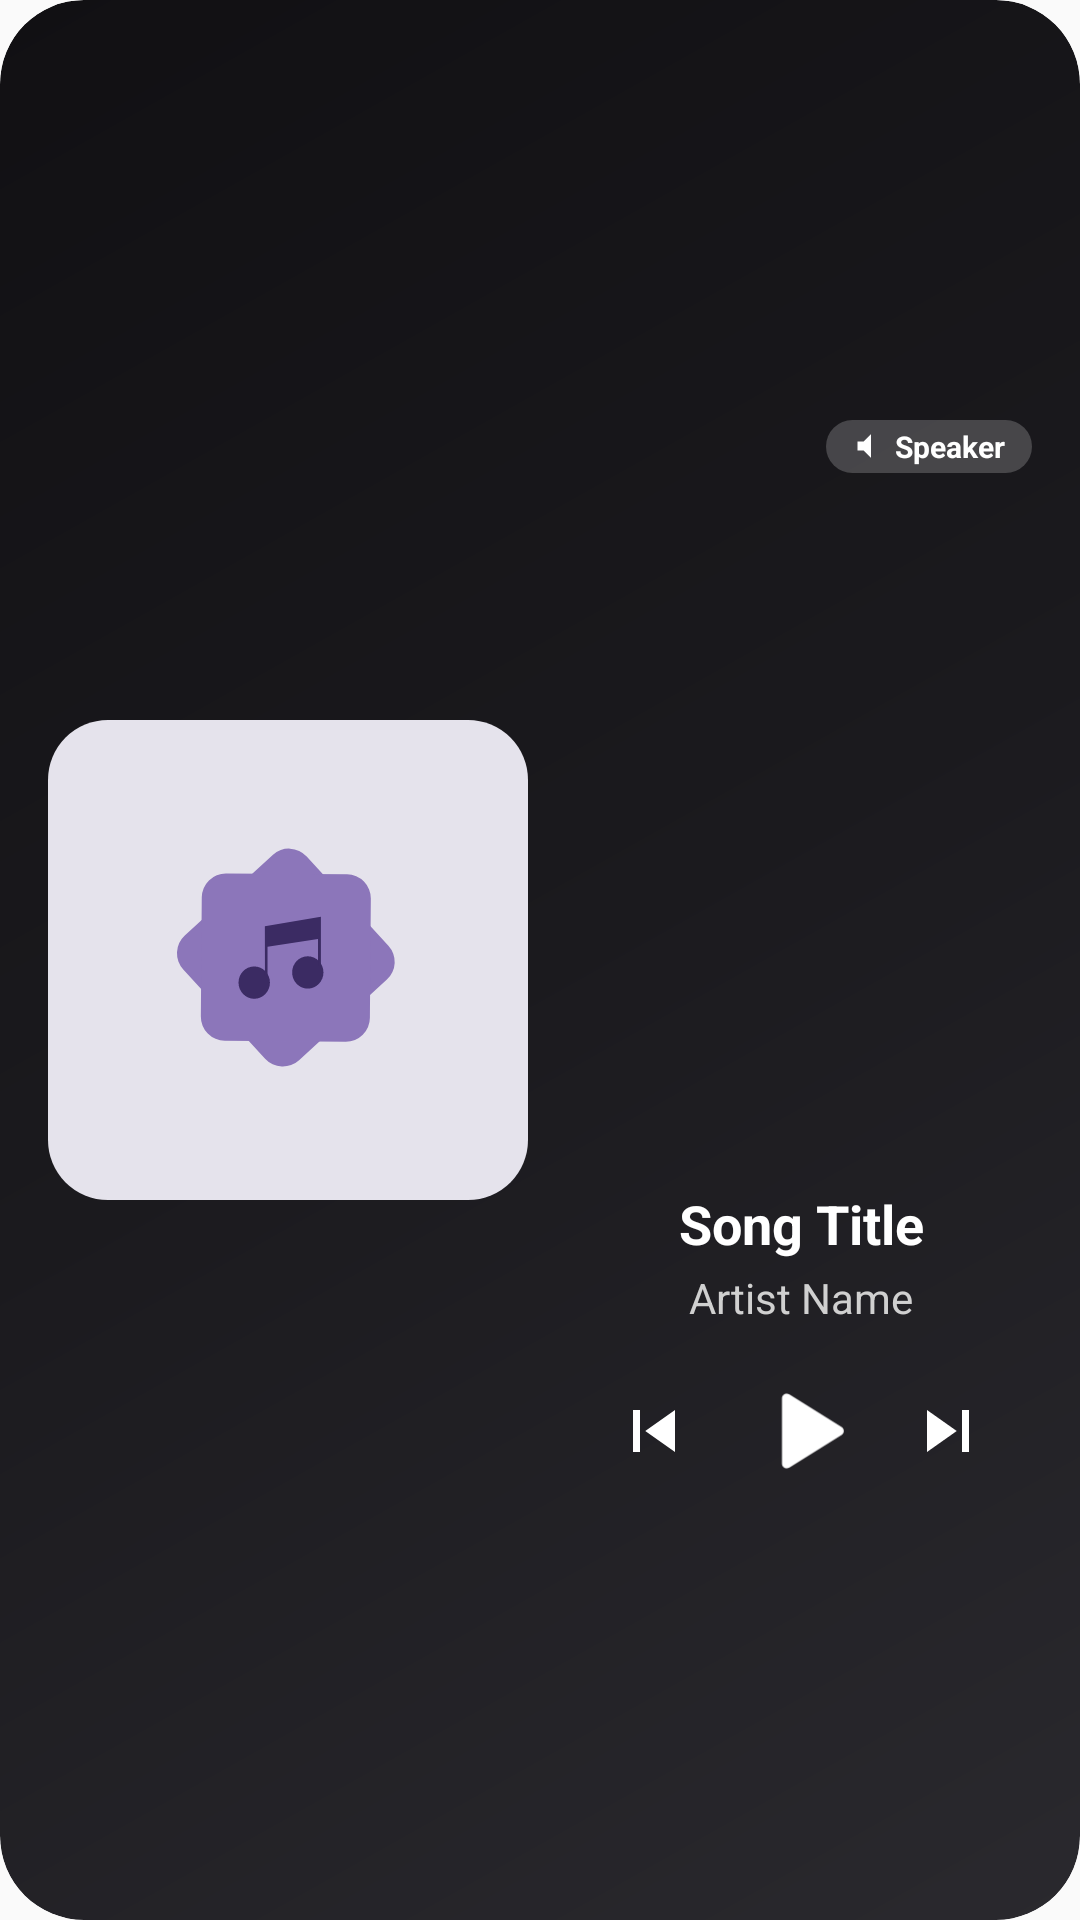

Screen size 1080*1920. Icon name, then its box in pixels as [x1=x1, y1=y1, x2=x2, y2=y2]:
Next: [x1=927, y1=1410, x2=969, y2=1452]
Play/Pause: [x1=781, y1=1393, x2=844, y2=1469]
Previous: [x1=633, y1=1410, x2=675, y2=1452]
